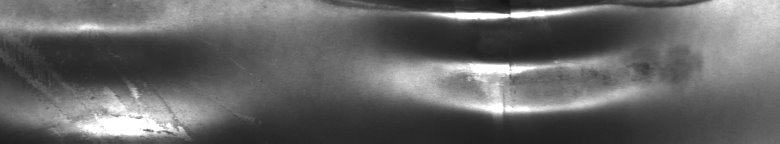ke: (391, 4, 692, 124)
